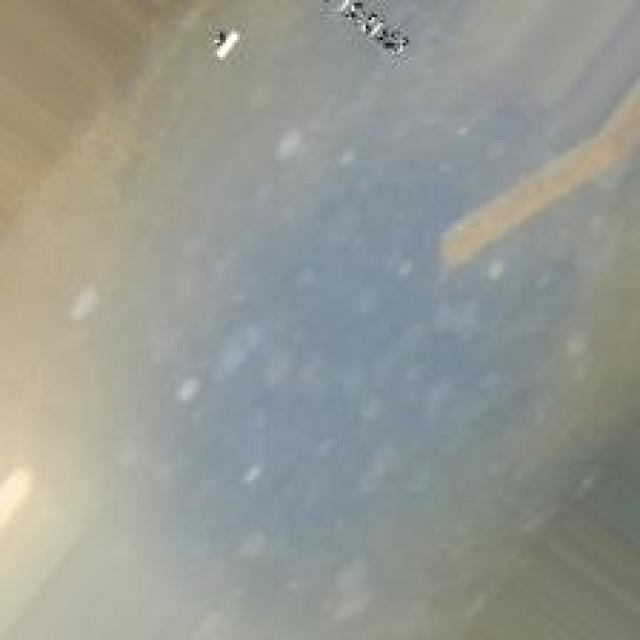ferrule: (434, 89, 629, 274)
